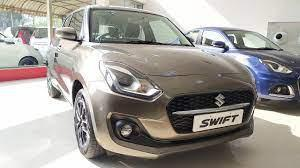Hatchback: (47, 5, 261, 161), (188, 25, 298, 104), (0, 30, 46, 68)
